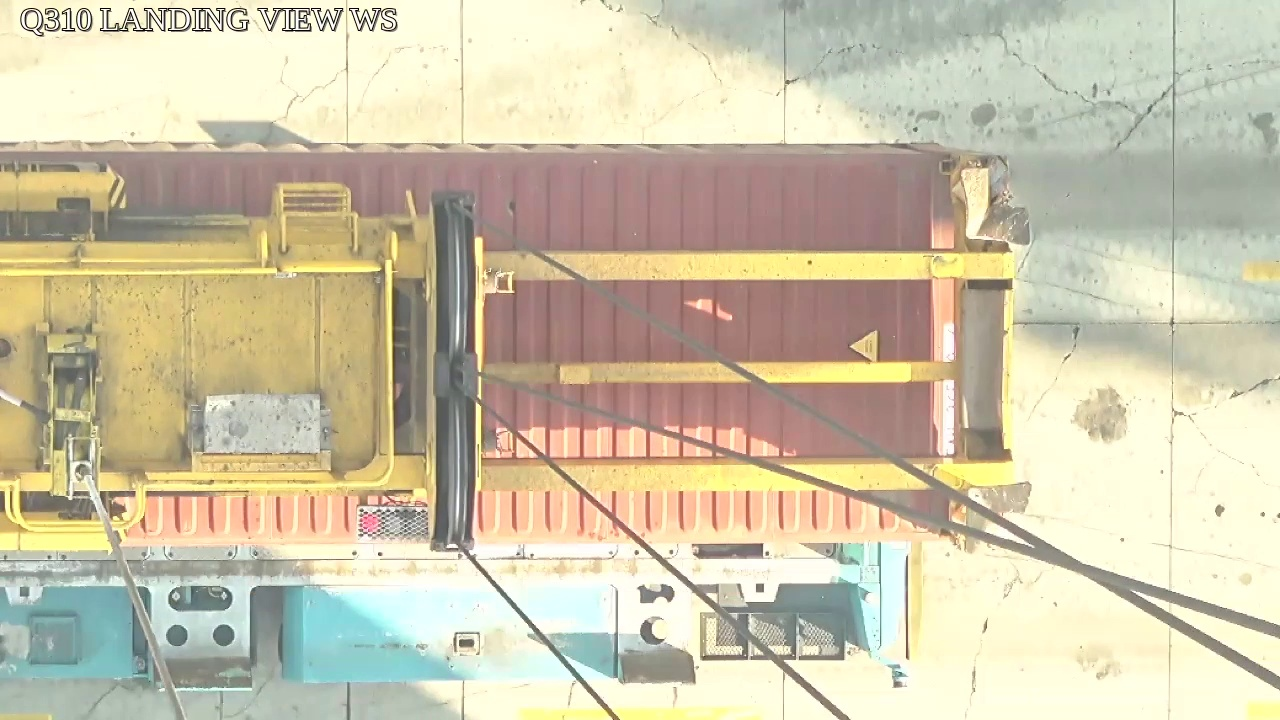right: (419, 190, 492, 556)
